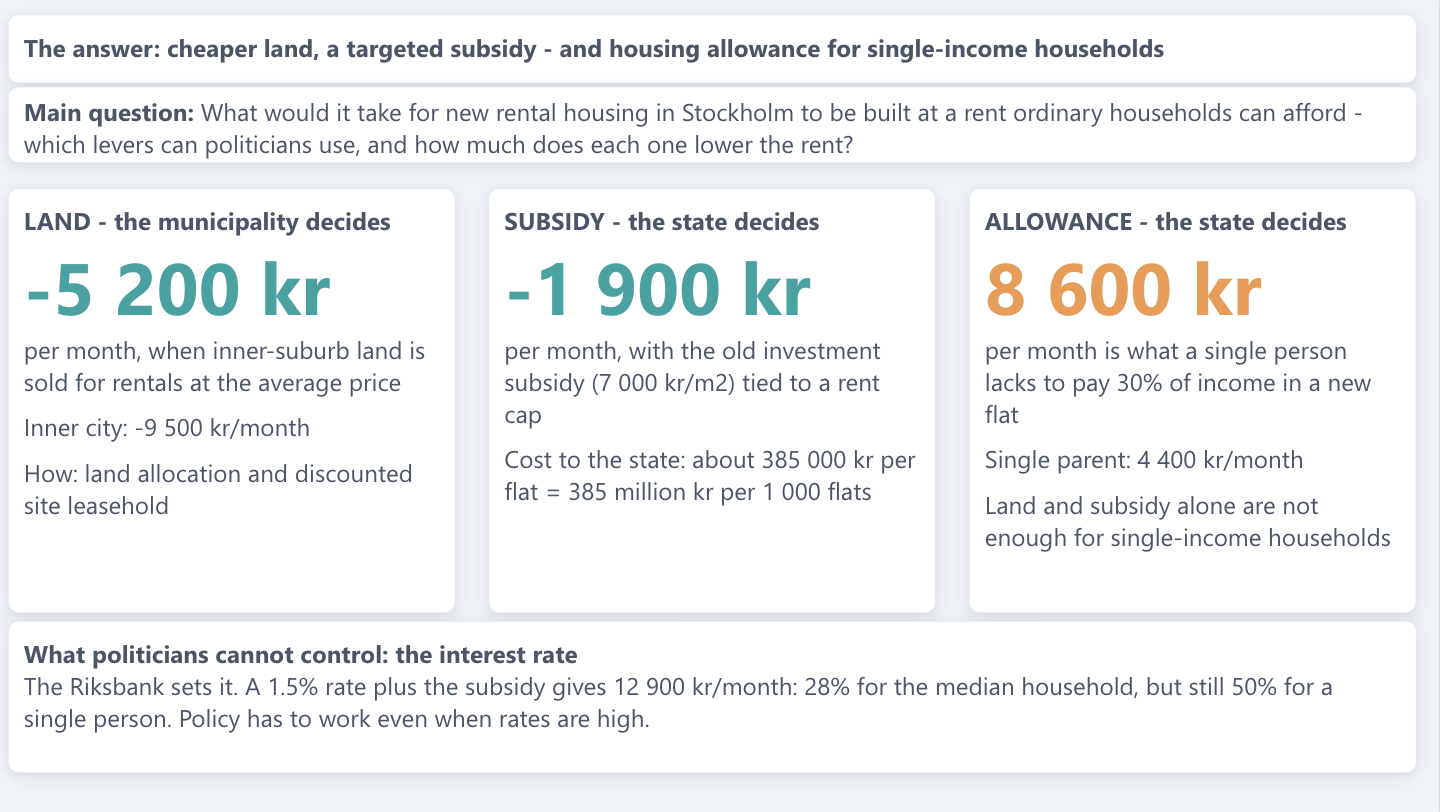

The dashboard page shown, as its layout file describes it:
{"tool":"powerbi","page":{"name":"5. The answer","canvas":[1920,1080],"ordinal":5},"visuals":[{"type":"textbox","box":[30,20,1860,90],"z":0},{"type":"textbox","box":[30,115,1860,100],"z":1000},{"type":"textbox","box":[30,250,590,560],"z":2000},{"type":"textbox","box":[665,250,590,560],"z":3000},{"type":"textbox","box":[1300,250,590,560],"z":4000},{"type":"textbox","box":[30,820,1860,200],"z":5000}]}

Visuals, with their boxes in screenshot pixels (x1, y1, x2, y2), scaled from the page's 1920x1080 canvas onto the 1440x812 screenshot:
textbox: crop(22, 15, 1418, 83)
textbox: crop(22, 86, 1418, 162)
textbox: crop(22, 188, 465, 609)
textbox: crop(499, 188, 941, 609)
textbox: crop(975, 188, 1418, 609)
textbox: crop(22, 617, 1418, 767)
